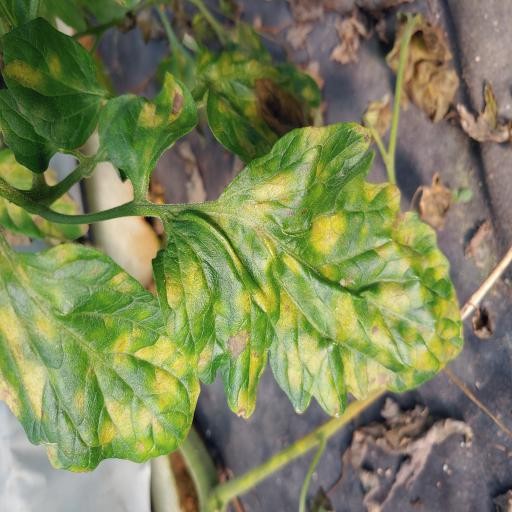Leaf Mold: (152, 121, 464, 419), (0, 246, 202, 474), (0, 15, 106, 176), (195, 49, 321, 162), (98, 70, 200, 176)
